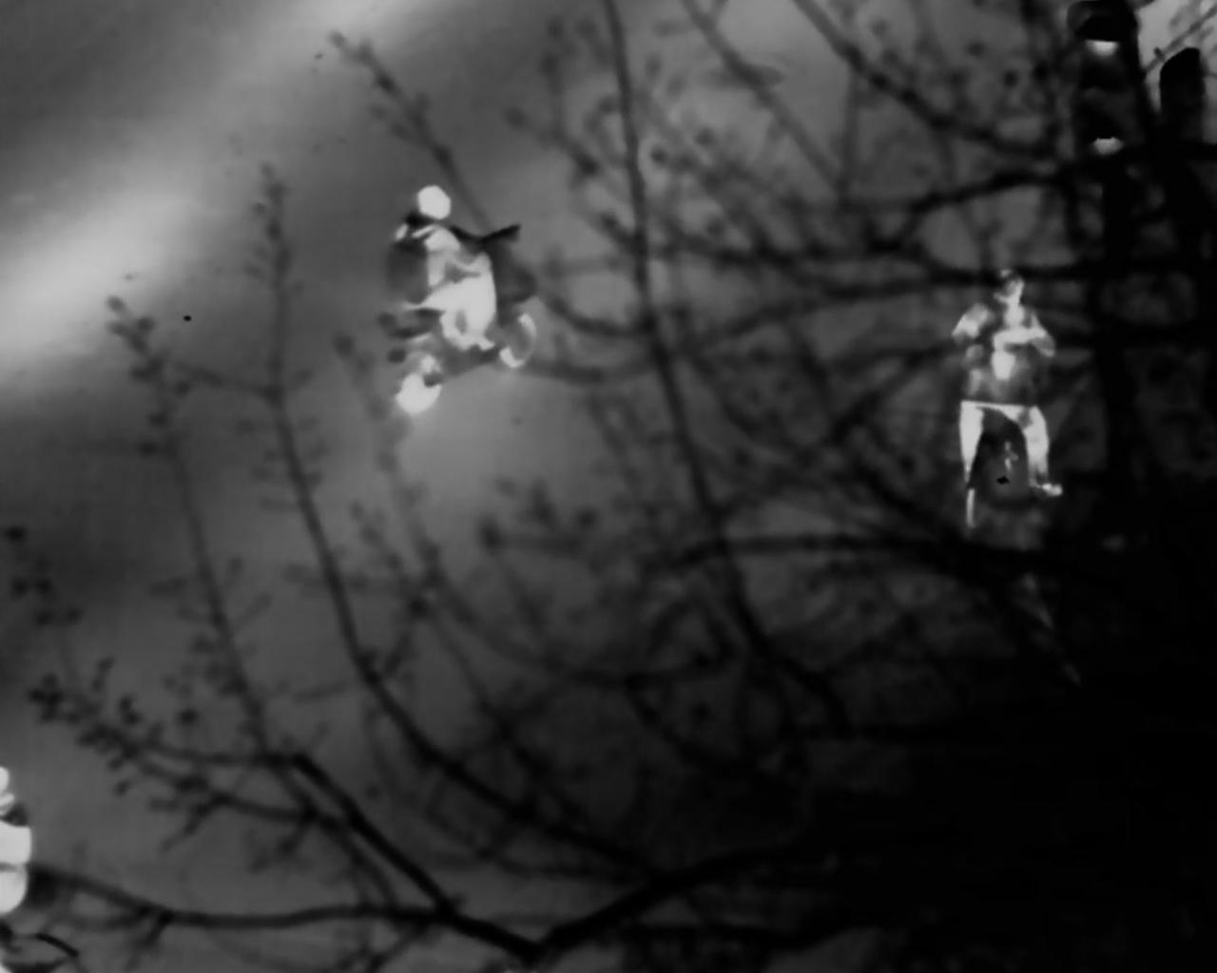person: (960, 271, 1069, 506), (383, 185, 512, 379)
